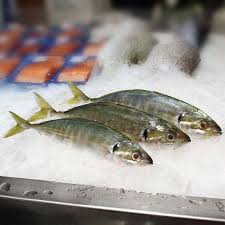Ikan Selar: (27, 93, 192, 151), (70, 78, 225, 138), (8, 112, 155, 173)
